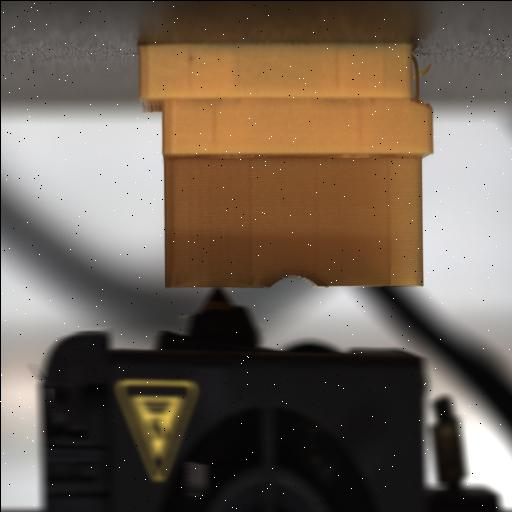layer_shift: (134, 91, 434, 121)
